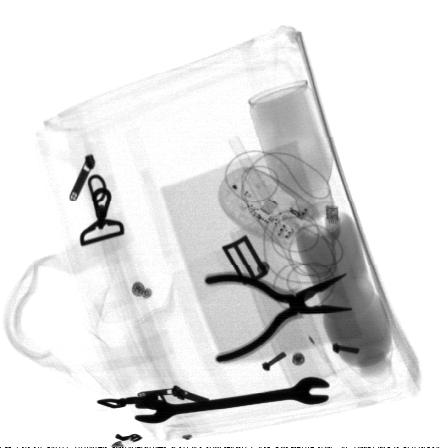Pliers: (204, 270, 355, 364)
Wrench: (133, 377, 331, 424)
